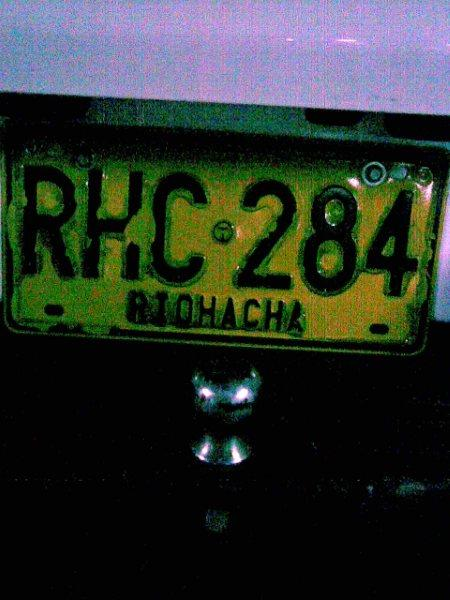placas: (2, 117, 448, 354)
